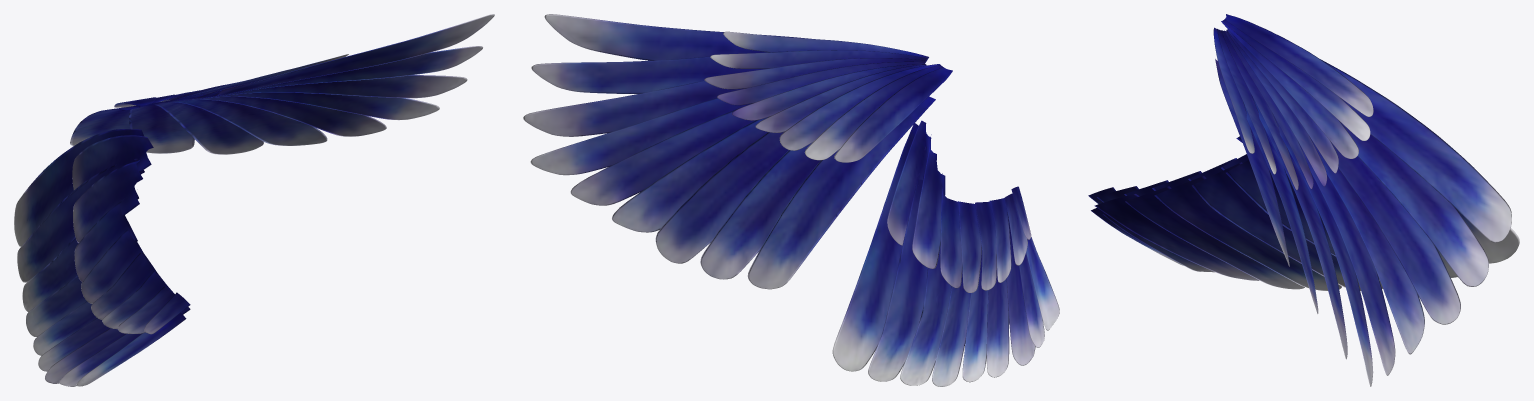
Rendered from AlaDer.obj.
3 views of the same model, side by side, from view 1: azimuth 30°, elevation 25°; view 2: azimuth 150°, elevation 25°; view 3: azimuth 270°, elevation 25° (orthographic). The views are drawn at different scales.
Visible parts, largest first — view 1: pajaro_azul.084; view 2: pajaro_azul.084; view 3: pajaro_azul.084.
Boxes of the visible parts, x1,y1,x2,y2 form: pajaro_azul.084: (14, 14, 494, 386); pajaro_azul.084: (523, 14, 1059, 386); pajaro_azul.084: (1088, 14, 1519, 386).
Bounding box in the file's own units: 25.1 × 13.86 × 16.84.
1 material, 1 textured.
